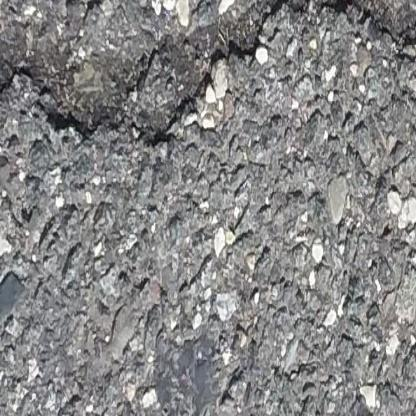Cracks: (0, 0, 416, 148)
